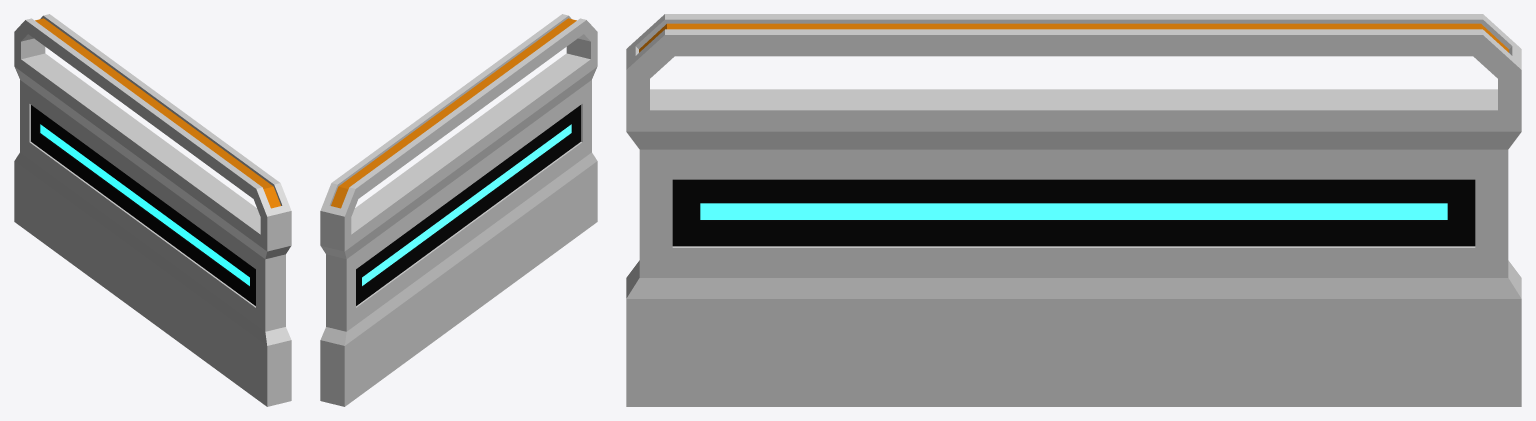
The model's file is SM_Rambard_2M.glb.
The picture shows the model from 3 angles, left to right: view 1: azimuth 30°, elevation 25°; view 2: azimuth 150°, elevation 25°; view 3: azimuth 270°, elevation 25°; orthographic projection. The views are drawn at different scales.
Visible parts, largest first — view 1: SM_Rambard_2M; view 2: SM_Rambard_2M; view 3: SM_Rambard_2M.
Part boxes in pixels (<box>): SM_Rambard_2M: <box>14,14,291,406</box>; SM_Rambard_2M: <box>320,14,597,406</box>; SM_Rambard_2M: <box>626,14,1521,406</box>.
Size of the model in its own units: 0.2222 by 1.83 by 4.
